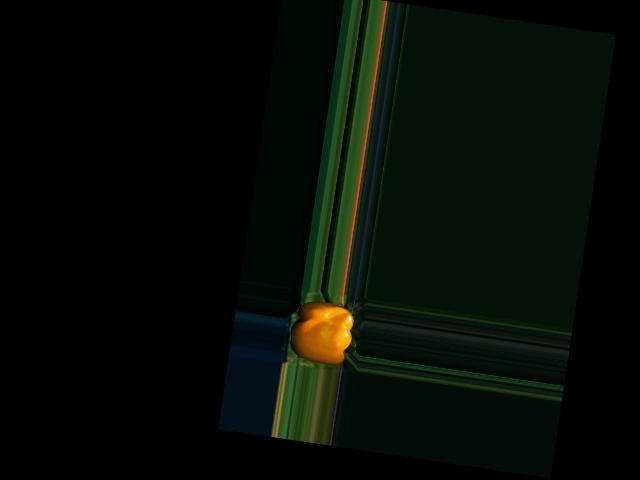bell_pepper: (285, 292, 362, 371)
